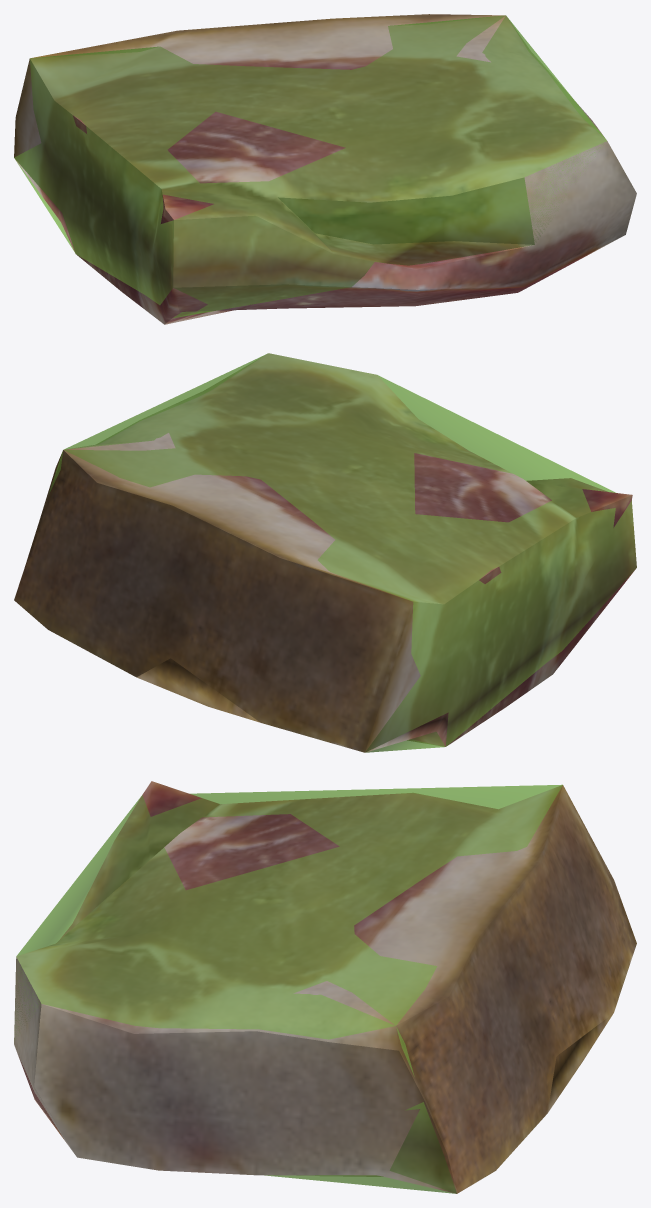
Rendered from pg_Jamon_04_a.fbx.
3 renders of one model, top to bottom at view 1: azimuth 30°, elevation 25°; view 2: azimuth 150°, elevation 25°; view 3: azimuth 270°, elevation 25°, orthographic. The views are drawn at different scales.
Parts seen in each view (by area): view 1: pg_Jamon_04_a_LOD0, pg_Jamon_04_a_col; view 2: pg_Jamon_04_a_LOD0, pg_Jamon_04_a_col; view 3: pg_Jamon_04_a_LOD0, pg_Jamon_04_a_col.
Part boxes in pixels (box(x1,y1,x2,y2)): pg_Jamon_04_a_LOD0: box(14, 14, 636, 324); pg_Jamon_04_a_col: box(14, 15, 606, 317); pg_Jamon_04_a_LOD0: box(14, 353, 636, 752); pg_Jamon_04_a_col: box(49, 353, 636, 752); pg_Jamon_04_a_LOD0: box(14, 781, 636, 1193); pg_Jamon_04_a_col: box(14, 784, 562, 1193).
Size of what is drawn, in the model's own units: 14.44 by 5.25 by 14.09.
2 materials, 1 textured.
